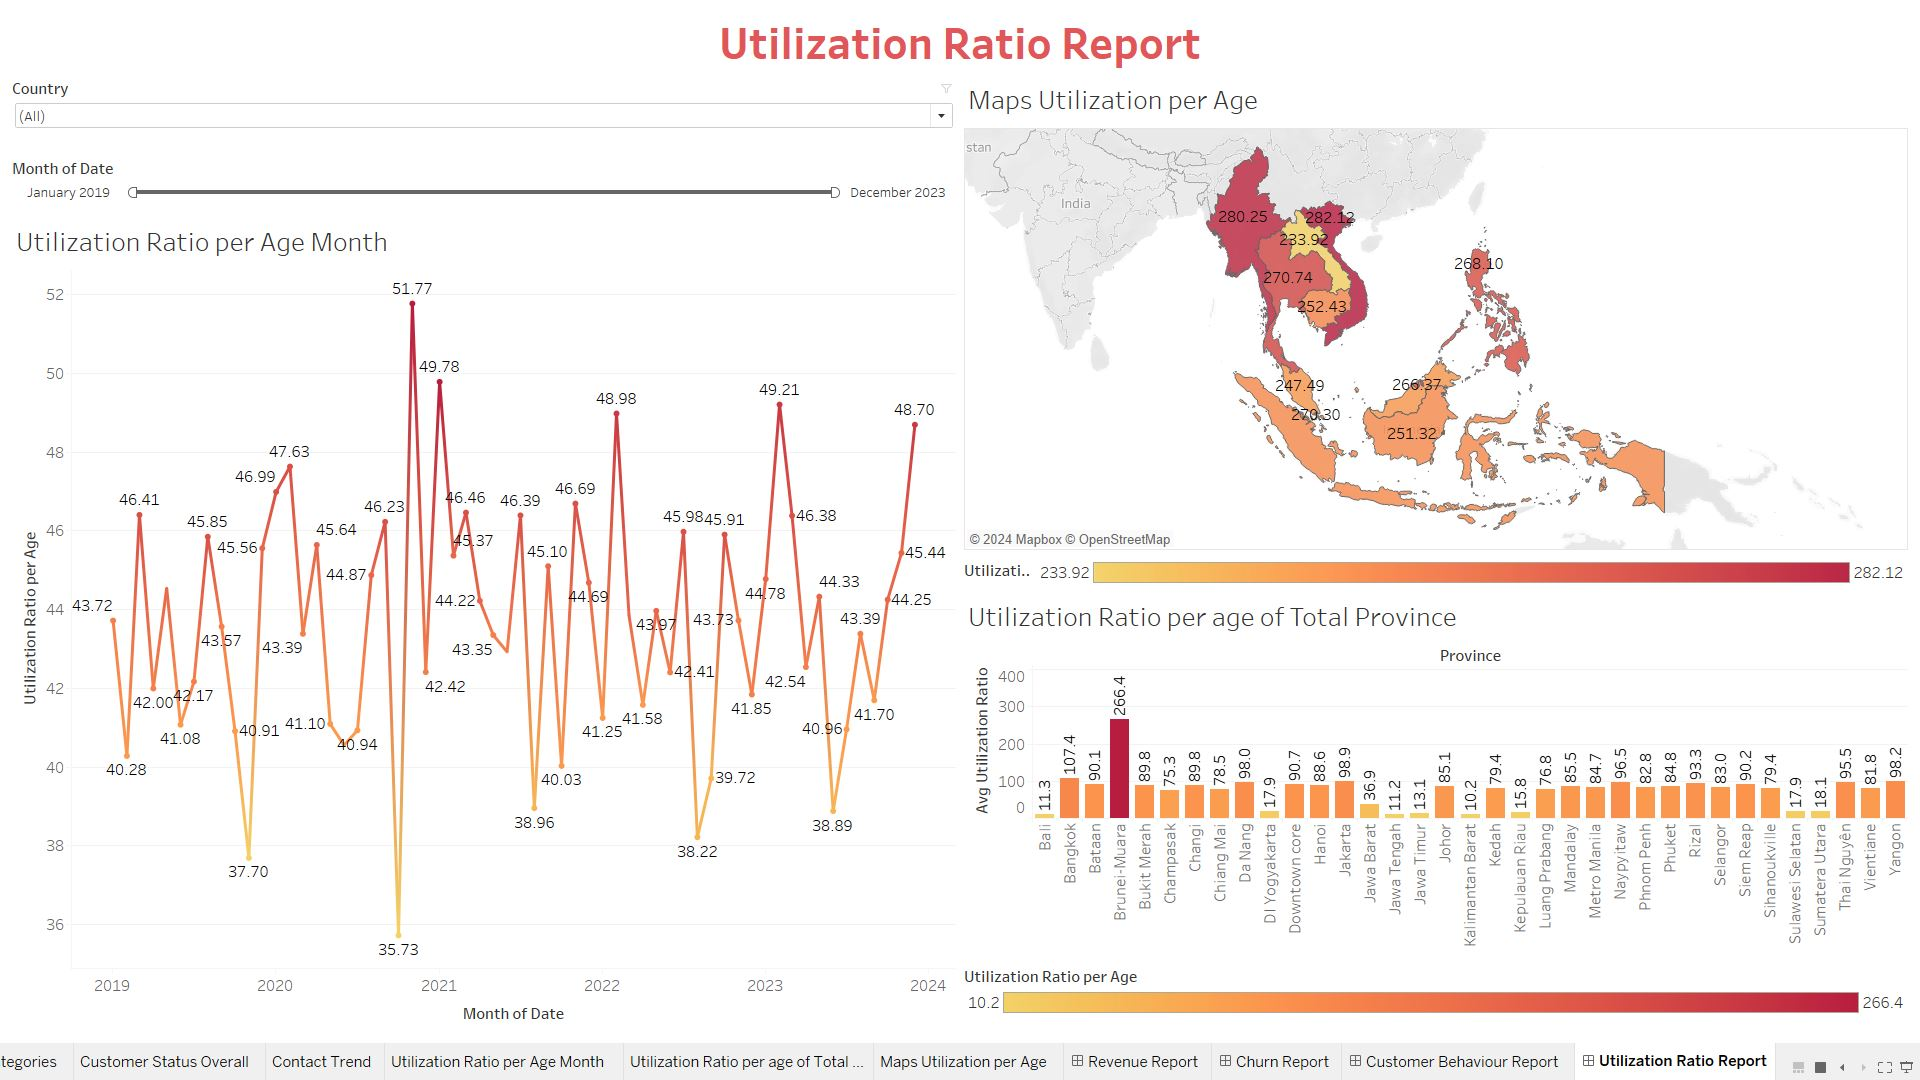

The page's visual inventory and layout, read from the dashboard file:
{"tool":"tableau","page":{"name":"Utilization Ratio Report","canvas":[1000,1000],"units":"permille","ordinal":3},"visuals":[{"type":"title","box":[4.8,9.3,990.3,156.8]},{"type":"filter","title":"Utilization Ratio Per Age Per Month","param":"[federated.1ccpgh20nh87yk13rwn9y19mnfh2].[tmn:Date:qk]","box":[4.8,166.1,495.1,77.8]},{"type":"filter","title":"Utilization Ratio Per Age Per Area","param":"[federated.1ccpgh20nh87yk13rwn9y19mnfh2].[none:Country:nk]","box":[500,166.1,495.2,77.8]},{"type":"worksheet","title":"Utilization Ratio Per Age Per Month","mark":"Automatic","rows":["Calculation_966022142665388032"],"cols":["Date"],"box":[4.8,243.8,495.1,746.9]},{"type":"worksheet","title":"Utilization Ratio Per Age Per Area","mark":"Automatic","box":[500,243.8,495.2,334.5]},{"type":"filter","title":"Utilization Ratio Per Age Per Province","param":"[federated.1ccpgh20nh87yk13rwn9y19mnfh2].[none:Province:nk]","box":[500,578.4,495.2,77.8]},{"type":"worksheet","title":"Utilization Ratio Per Age Per Province","mark":"Automatic","rows":["Customer_Age"],"cols":["Province"],"box":[500,656.1,495.2,334.6]}]}

Visuals, with their boxes on the dashboard's canvas, which has no fixed pixel size, in thousandths of its width and height (x1, y1, x2, y2). These are canvas units, not pixel positions in the 1920x1080 screenshot, which may show the page scaled, cropped or inside an application window:
title: x1=5 y1=9 x2=995 y2=166
"Utilization Ratio Per Age Per Month" filter: x1=5 y1=166 x2=500 y2=244
"Utilization Ratio Per Age Per Area" filter: x1=500 y1=166 x2=995 y2=244
"Utilization Ratio Per Age Per Month" worksheet: x1=5 y1=244 x2=500 y2=991
"Utilization Ratio Per Age Per Area" worksheet: x1=500 y1=244 x2=995 y2=578
"Utilization Ratio Per Age Per Province" filter: x1=500 y1=578 x2=995 y2=656
"Utilization Ratio Per Age Per Province" worksheet: x1=500 y1=656 x2=995 y2=991
